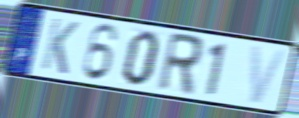0: (121, 29, 162, 89)
1: (205, 42, 231, 97)
6: (81, 22, 119, 83)
K: (39, 15, 81, 77)
R: (154, 31, 205, 98)
V: (249, 43, 289, 106)
